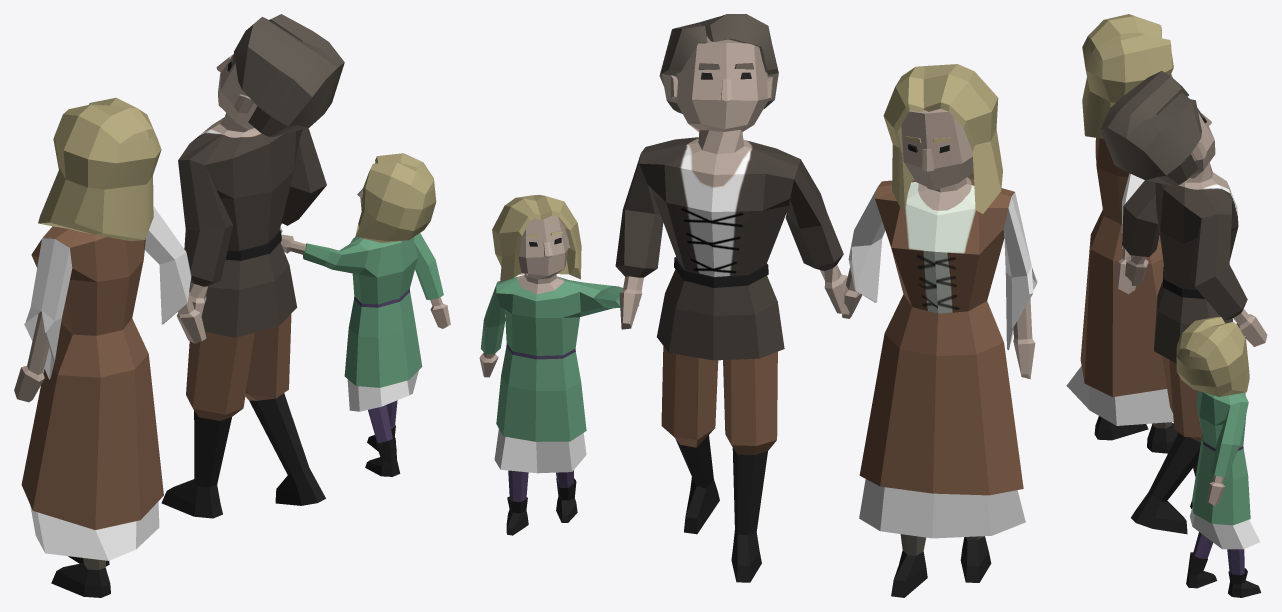
File: family.glb
The picture shows the model from 3 angles, left to right: view 1: azimuth 30°, elevation 25°; view 2: azimuth 150°, elevation 25°; view 3: azimuth 270°, elevation 25°; orthographic projection. The views are drawn at different scales.
Visible parts, largest first — view 1: peasant woman1_character_peasant2_0, peasant man1_character_peasant2_0, peasant girl_characters_0; view 2: peasant woman1_character_peasant2_0, peasant man1_character_peasant2_0, peasant girl_characters_0; view 3: peasant man1_character_peasant2_0, peasant woman1_character_peasant2_0, peasant girl_characters_0.
Part boxes in pixels (left/top/right/bottom): peasant woman1_character_peasant2_0: left=14, top=97, right=206, bottom=597; peasant man1_character_peasant2_0: left=161, top=14, right=344, bottom=518; peasant girl_characters_0: left=280, top=153, right=450, bottom=476; peasant woman1_character_peasant2_0: left=842, top=64, right=1037, bottom=597; peasant man1_character_peasant2_0: left=615, top=14, right=849, bottom=582; peasant girl_characters_0: left=479, top=194, right=639, bottom=535; peasant man1_character_peasant2_0: left=1100, top=71, right=1267, bottom=534; peasant woman1_character_peasant2_0: left=1066, top=14, right=1178, bottom=453; peasant girl_characters_0: left=1176, top=317, right=1261, bottom=597.
Size of the model in its own units: 204 by 204 by 83.1.
2 materials, 2 textured.
